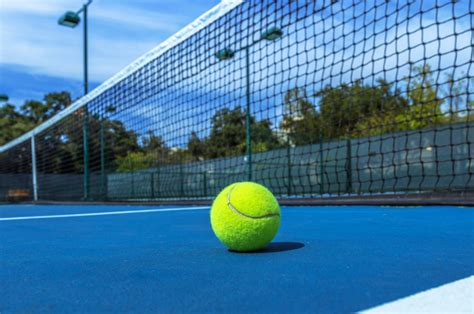tennis_ball: (210, 180, 281, 251)
